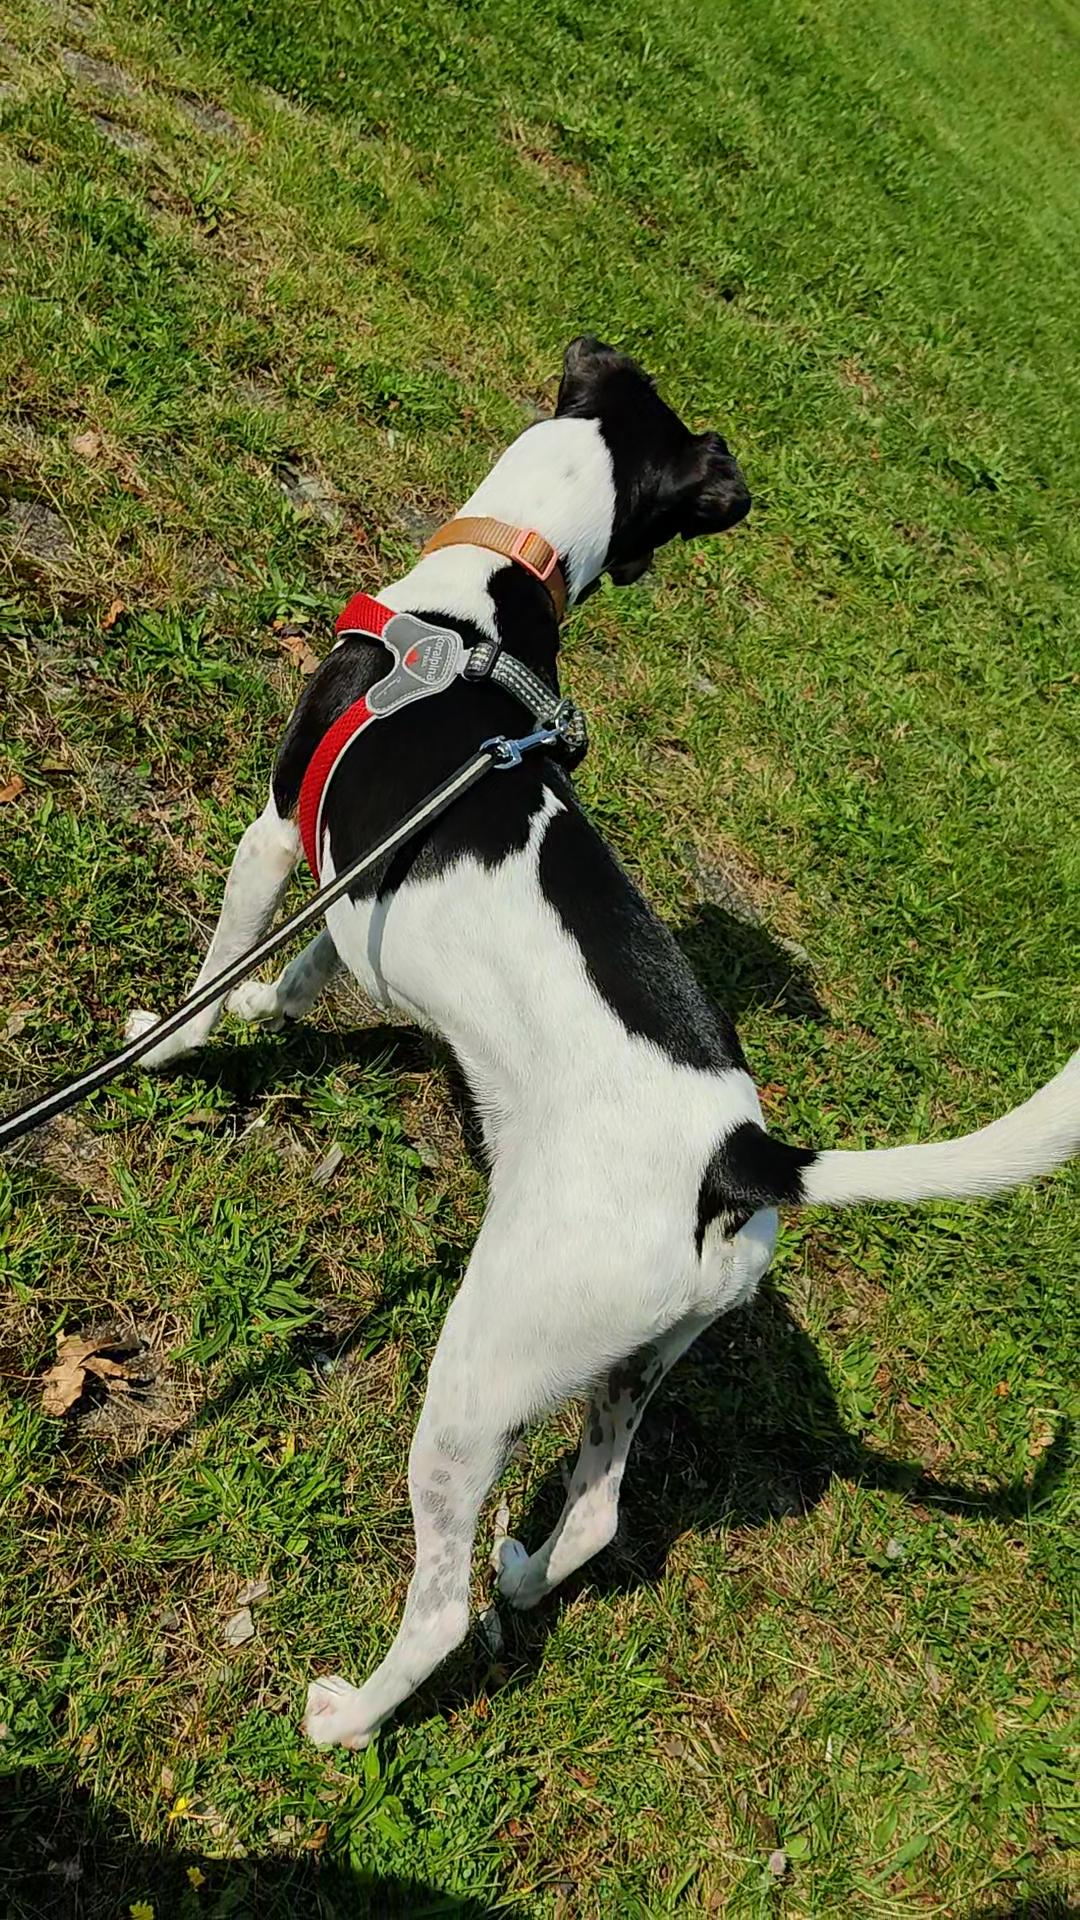Dog: (105, 319, 1079, 1768)
